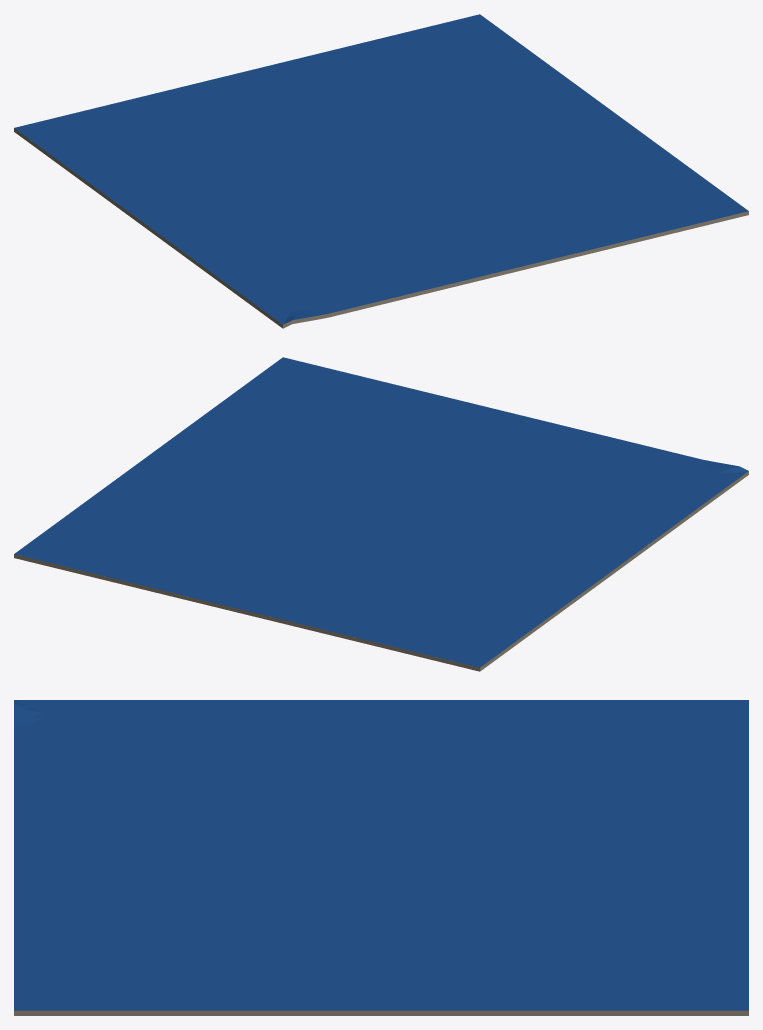
The model's file is parca_+15_-2-uzak.glb.
3 renders of one model, top to bottom at view 1: azimuth 30°, elevation 25°; view 2: azimuth 150°, elevation 25°; view 3: azimuth 270°, elevation 25°, orthographic. The views are drawn at different scales.
Parts seen in each view (by area): view 1: parca_+15_-2_arazi_uzak; view 2: parca_+15_-2_arazi_uzak; view 3: parca_+15_-2_arazi_uzak.
Part boxes in pixels (x1,y1,x2,y2): parca_+15_-2_arazi_uzak: (14,14,748,328); parca_+15_-2_arazi_uzak: (14,357,748,671); parca_+15_-2_arazi_uzak: (14,700,748,1015).
Size of the model in its own units: 1000 by 12.7 by 1000.
